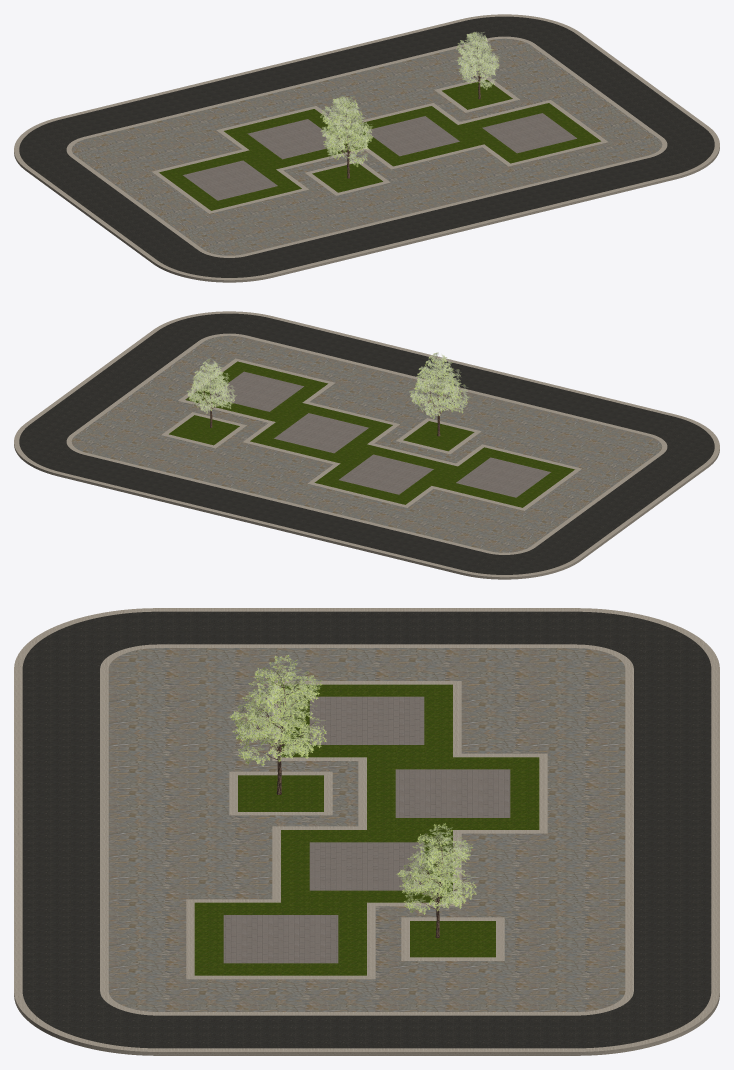
3 renders of one model, top to bottom at view 1: azimuth 30°, elevation 25°; view 2: azimuth 150°, elevation 25°; view 3: azimuth 270°, elevation 25°, orthographic. The views are drawn at different scales.
Visible parts, largest first — view 1: 4__Model_-_4_dwg; view 2: 4__Model_-_4_dwg; view 3: 4__Model_-_4_dwg.
Part boxes in pixels (left/top/right/bottom): 4__Model_-_4_dwg: left=14, top=14, right=719, bottom=282; 4__Model_-_4_dwg: left=14, top=311, right=719, bottom=579; 4__Model_-_4_dwg: left=14, top=608, right=719, bottom=1055.
Bounding box in the file's own units: 36.6 × 5.23 × 24.6.
Materials: 7 (7 with a texture image).
